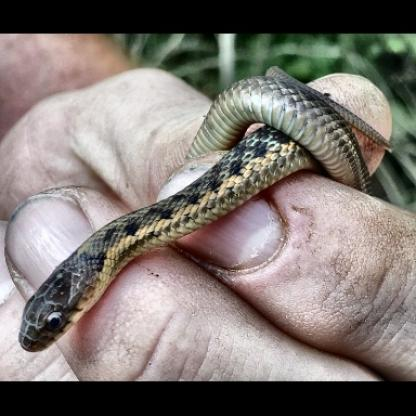Snake: (15, 240, 103, 358)
